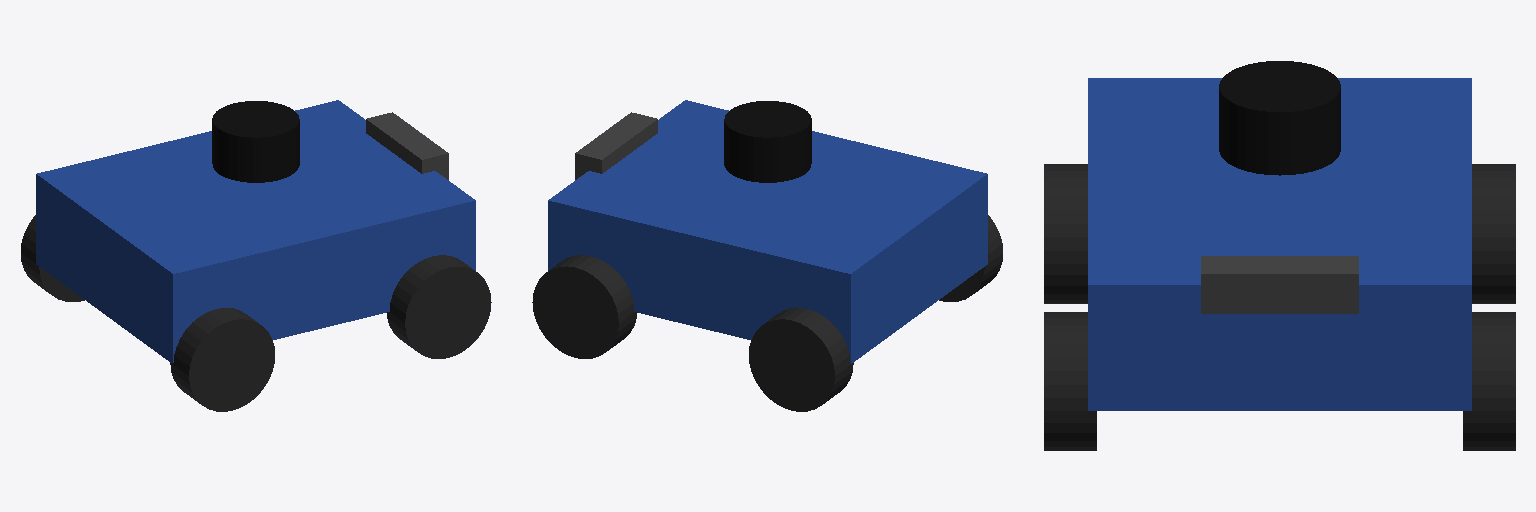
robot.urdf — mecanum_robot:
<?xml version="1.0" ?>
<robot name="mecanum_robot">
  <link name="base_footprint"/>

  <link name="base_link">
    <inertial>
      <origin xyz="0 0 0.04" rpy="0 0 0"/>
      <mass value="3.5"/>
      <inertia ixx="0.01598" ixy="0" ixz="0" iyy="0.02473" iyz="0" izz="0.03700"/>
    </inertial>
    <visual>
      <origin xyz="0 0 0.04" rpy="0 0 0"/>
      <geometry>
        <box size="0.28 0.22 0.08"/>
      </geometry>
      <material name="blue">
        <color rgba="0.2 0.35 0.65 1.0"/>
      </material>
    </visual>
    <collision>
      <origin xyz="0 0 0.04" rpy="0 0 0"/>
      <geometry>
        <box size="0.28 0.22 0.08"/>
      </geometry>
    </collision>
  </link>

  <joint name="base_footprint_joint" type="fixed">
    <parent link="base_footprint"/>
    <child link="base_link"/>
    <origin xyz="0 0 0.04" rpy="0 0 0"/>
  </joint>

  <!-- IMU -->
  <link name="imu_link"/>
  <joint name="imu_joint" type="fixed">
    <parent link="base_link"/>
    <child link="imu_link"/>
    <origin xyz="0 0 0.06" rpy="0 0 0"/>
  </joint>

  <!-- 2D LiDAR -->
  <link name="base_scan">
    <visual>
      <geometry>
        <cylinder radius="0.035" length="0.04"/>
      </geometry>
      <material name="dark">
        <color rgba="0.1 0.1 0.1 1.0"/>
      </material>
    </visual>
    <collision>
      <geometry>
        <cylinder radius="0.035" length="0.04"/>
      </geometry>
    </collision>
  </link>
  <joint name="lidar_joint" type="fixed">
    <parent link="base_link"/>
    <child link="base_scan"/>
    <origin xyz="0 0 0.12" rpy="0 0 0"/>
  </joint>

  <!-- Depth Camera -->
  <link name="camera_link">
    <visual>
      <geometry>
        <box size="0.025 0.09 0.025"/>
      </geometry>
      <material name="grey">
        <color rgba="0.3 0.3 0.3 1.0"/>
      </material>
    </visual>
  </link>
  <joint name="camera_joint" type="fixed">
    <parent link="base_link"/>
    <child link="camera_link"/>
    <origin xyz="0.14 0 0.08" rpy="0 0 0"/>
  </joint>

  <!-- Wheels -->
  <link name="front_left_wheel">
    <visual>
      <geometry><cylinder radius="0.04" length="0.03"/></geometry>
      <material name="black"><color rgba="0.2 0.2 0.2 1.0"/></material>
    </visual>
  </link>
  <joint name="front_left_wheel_joint" type="continuous">
    <parent link="base_link"/>
    <child link="front_left_wheel"/>
    <origin xyz="0.10 0.12 0.0" rpy="-1.5707963 0 0"/>
    <axis xyz="0 0 1"/>
  </joint>

  <link name="front_right_wheel">
    <visual>
      <geometry><cylinder radius="0.04" length="0.03"/></geometry>
      <material name="black"><color rgba="0.2 0.2 0.2 1.0"/></material>
    </visual>
  </link>
  <joint name="front_right_wheel_joint" type="continuous">
    <parent link="base_link"/>
    <child link="front_right_wheel"/>
    <origin xyz="0.10 -0.12 0.0" rpy="-1.5707963 0 0"/>
    <axis xyz="0 0 1"/>
  </joint>

  <link name="rear_left_wheel">
    <visual>
      <geometry><cylinder radius="0.04" length="0.03"/></geometry>
      <material name="black"><color rgba="0.2 0.2 0.2 1.0"/></material>
    </visual>
  </link>
  <joint name="rear_left_wheel_joint" type="continuous">
    <parent link="base_link"/>
    <child link="rear_left_wheel"/>
    <origin xyz="-0.10 0.12 0.0" rpy="-1.5707963 0 0"/>
    <axis xyz="0 0 1"/>
  </joint>

  <link name="rear_right_wheel">
    <visual>
      <geometry><cylinder radius="0.04" length="0.03"/></geometry>
      <material name="black"><color rgba="0.2 0.2 0.2 1.0"/></material>
    </visual>
  </link>
  <joint name="rear_right_wheel_joint" type="continuous">
    <parent link="base_link"/>
    <child link="rear_right_wheel"/>
    <origin xyz="-0.10 -0.12 0.0" rpy="-1.5707963 0 0"/>
    <axis xyz="0 0 1"/>
  </joint>
</robot>

--- Render facts (derived) ---
3 views of the same robot in one strip: view 1: azimuth 30°, elevation 25°; view 2: azimuth 150°, elevation 25°; view 3: azimuth 270°, elevation 25° (orthographic).
Model mecanum_robot with 9 links and 8 joints (4 continuous, 4 fixed), rooted at base_footprint, posed every joint at zero.
Visible links, largest first — view 1: base_link, rear_right_wheel, front_right_wheel, base_scan, camera_link, rear_left_wheel; view 2: base_link, rear_left_wheel, front_left_wheel, base_scan, camera_link, rear_right_wheel; view 3: base_link, base_scan, camera_link, front_left_wheel, front_right_wheel, rear_left_wheel, rear_right_wheel.
Boxes of the visible links, left/top/right/bottom form: base_link: left=36, top=100, right=475, bottom=363; rear_right_wheel: left=170, top=308, right=274, bottom=411; front_right_wheel: left=387, top=255, right=491, bottom=358; base_scan: left=212, top=101, right=299, bottom=182; camera_link: left=366, top=112, right=448, bottom=179; rear_left_wheel: left=21, top=215, right=84, bottom=301; base_link: left=548, top=100, right=987, bottom=363; rear_left_wheel: left=749, top=308, right=853, bottom=411; front_left_wheel: left=532, top=255, right=636, bottom=358; base_scan: left=724, top=101, right=811, bottom=182; camera_link: left=575, top=112, right=657, bottom=179; rear_right_wheel: left=939, top=215, right=1002, bottom=301; base_link: left=1088, top=78, right=1471, bottom=410; base_scan: left=1219, top=61, right=1340, bottom=175; camera_link: left=1201, top=256, right=1358, bottom=313; front_left_wheel: left=1463, top=312, right=1515, bottom=450; front_right_wheel: left=1044, top=312, right=1096, bottom=450; rear_left_wheel: left=1472, top=164, right=1515, bottom=303; rear_right_wheel: left=1044, top=164, right=1087, bottom=303.
Size in the robot's own frame: 0.2925 by 0.27 by 0.18 metres.
Geometry: primitives only (box / cylinder / sphere), no mesh files.
